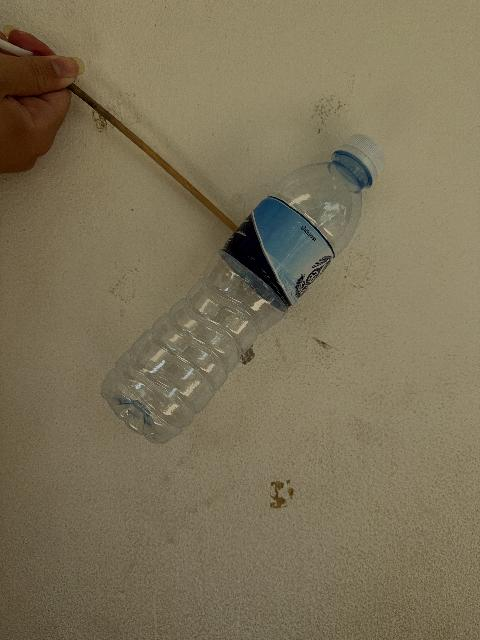bottle: (102, 135, 386, 443)
